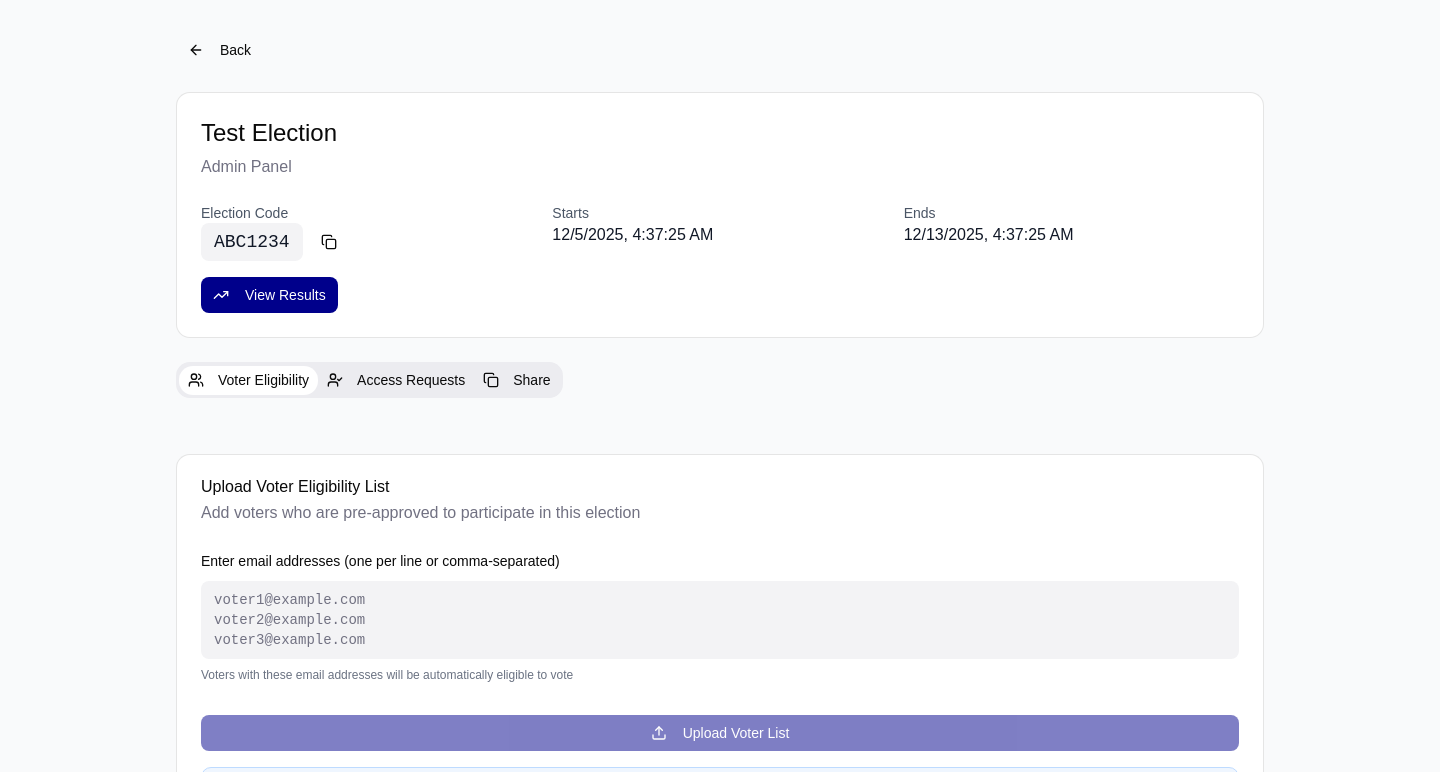
AdminPanel - handleUploadVoters › API error handling › should handle non-Error exceptions
The width and height of the screenshot is (1440, 772).
Expected: the heading "Test Election" is shown, [201,119,337,146]
In the text box with placeholder "voter1@example.com voter2@example.com voter3@example.com": (720, 620) [201,581,1239,659], type "valid@example.com"
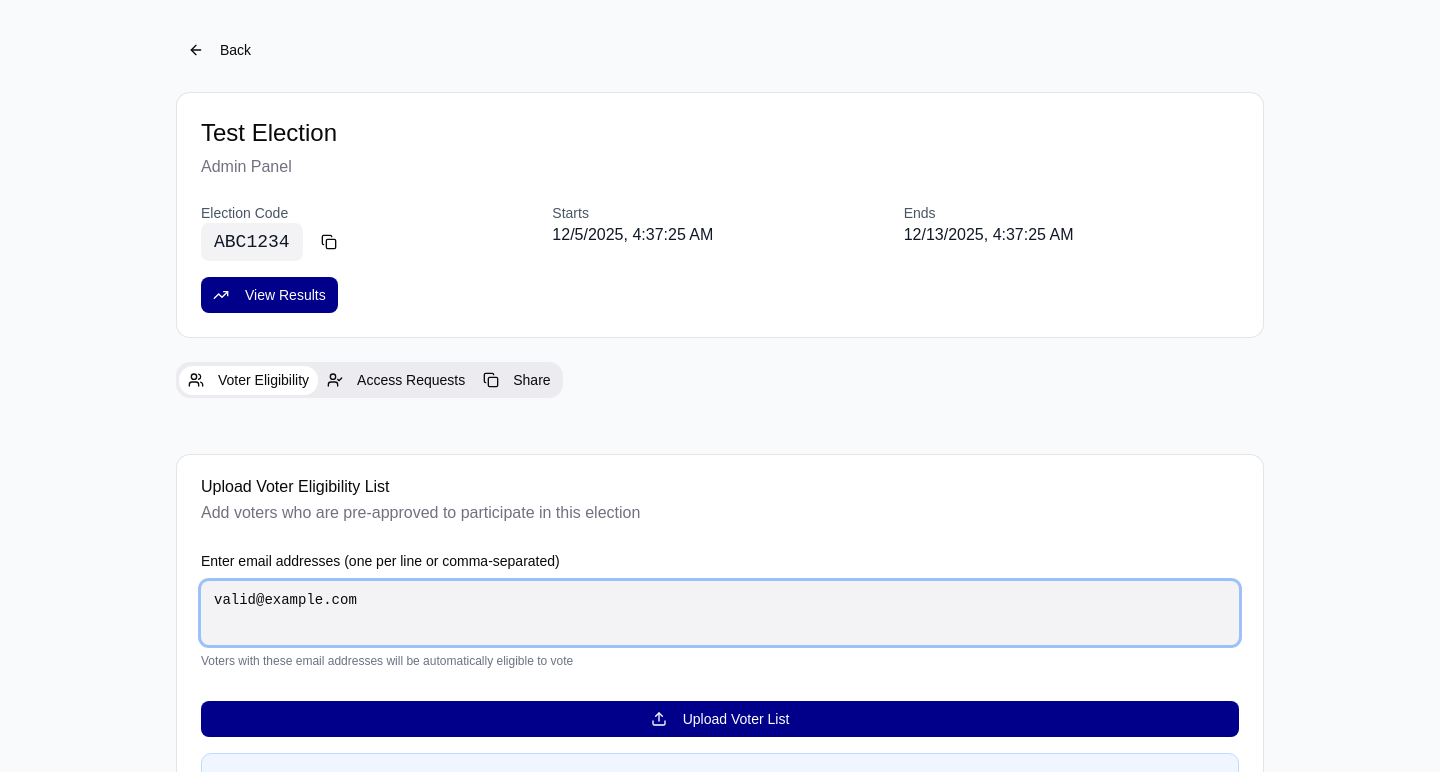
Click the button "Upload Voter List": (720, 719) [201,701,1239,737]
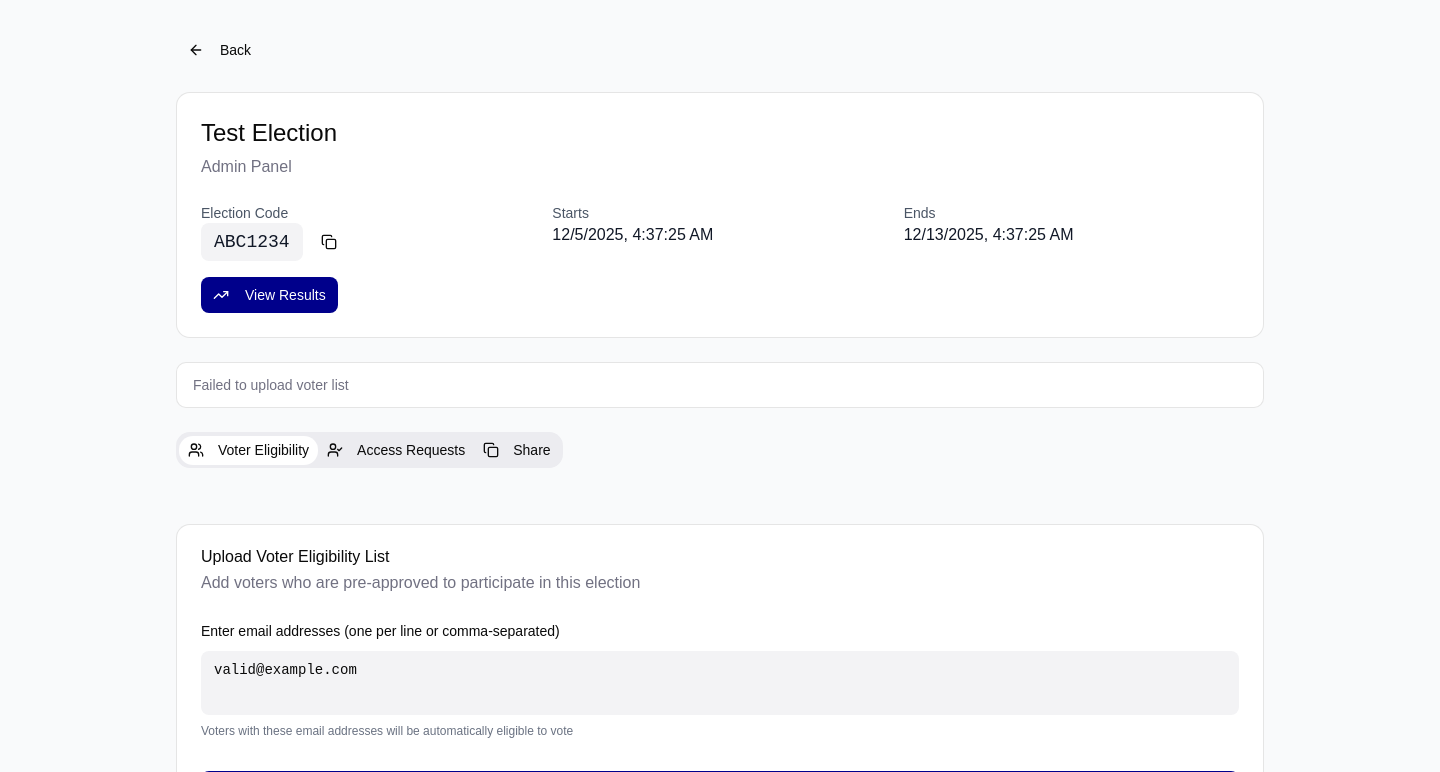
Now the text "Failed to upload voter list" is shown, box [193,377,349,393]
